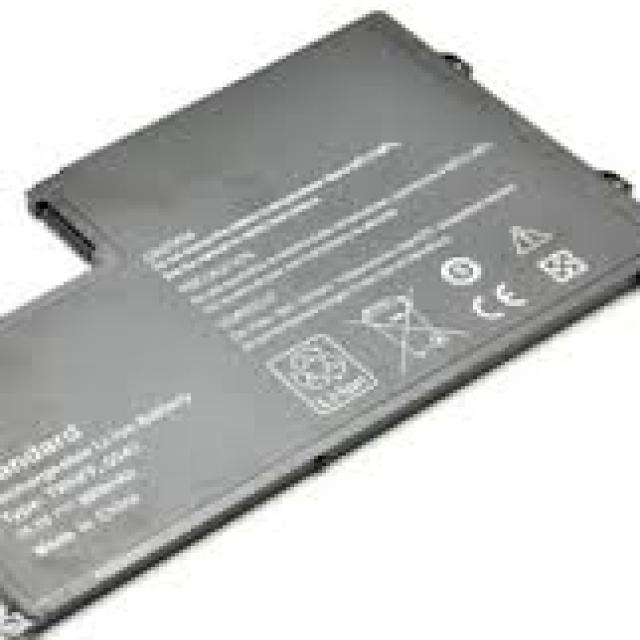organic: (3, 11, 637, 627)
